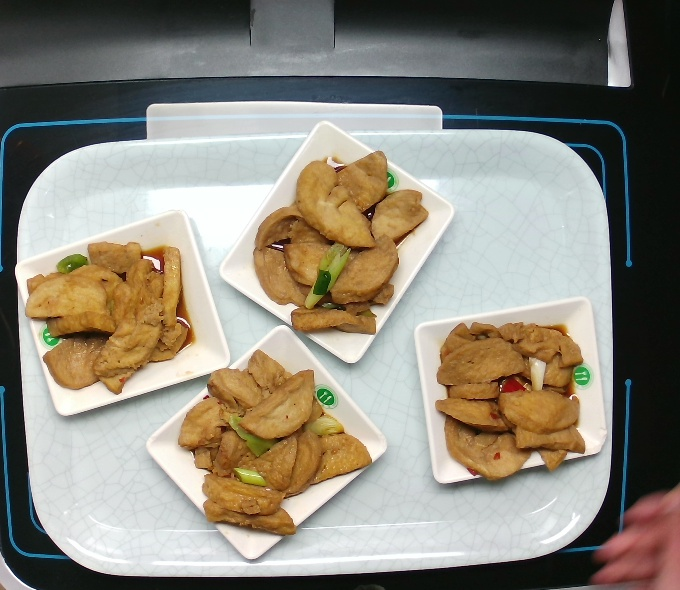wcq-SuJi: (172, 348, 383, 542), (248, 145, 433, 347), (22, 235, 198, 416), (436, 313, 592, 490)
